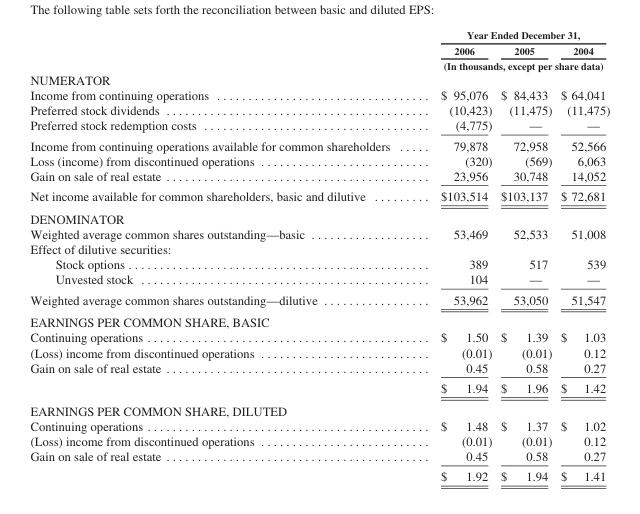table: (29, 29, 609, 483)
table column: (29, 29, 414, 483), (414, 29, 495, 483), (495, 29, 555, 483), (555, 29, 609, 483)
table column header: (29, 29, 609, 71)
table projected row header: (29, 207, 609, 226), (29, 310, 609, 329), (29, 399, 609, 417), (29, 71, 609, 87), (29, 241, 609, 256)
table row: (29, 185, 609, 207), (29, 377, 609, 399), (29, 289, 609, 310), (29, 207, 609, 226), (29, 310, 609, 329), (29, 117, 609, 135), (29, 167, 609, 185), (29, 271, 609, 289), (29, 359, 609, 377), (29, 399, 609, 417), (29, 465, 609, 483), (29, 135, 609, 152), (29, 448, 609, 465), (29, 71, 609, 87), (29, 417, 609, 433), (29, 42, 609, 57), (29, 87, 609, 102), (29, 102, 609, 117), (29, 152, 609, 167), (29, 226, 609, 241), (29, 241, 609, 256), (29, 256, 609, 271), (29, 329, 609, 344), (29, 344, 609, 359), (29, 433, 609, 448), (29, 57, 609, 71), (29, 29, 609, 42)
table spanning cell: (414, 57, 609, 71), (414, 29, 609, 42)
